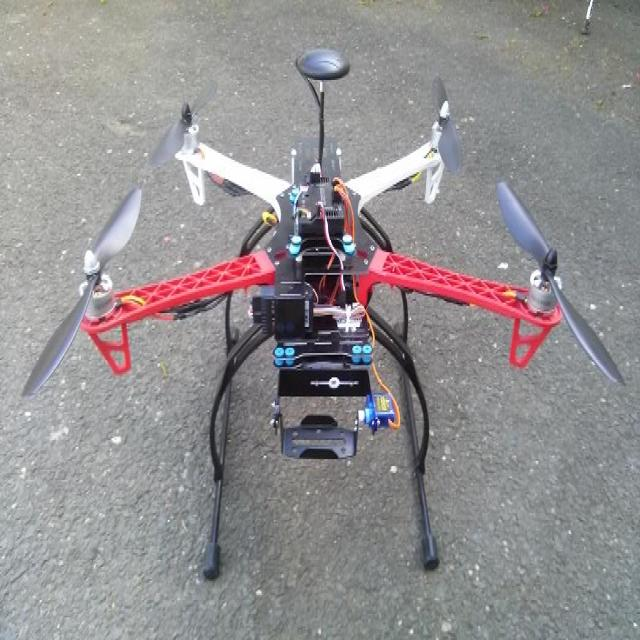drone: (38, 41, 626, 573)
